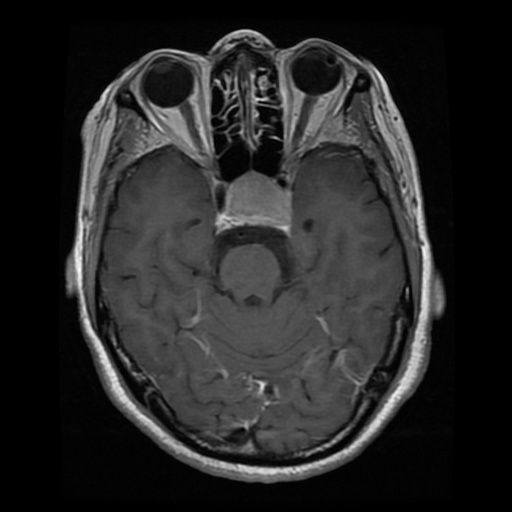pituitary: (219, 170, 289, 233)
